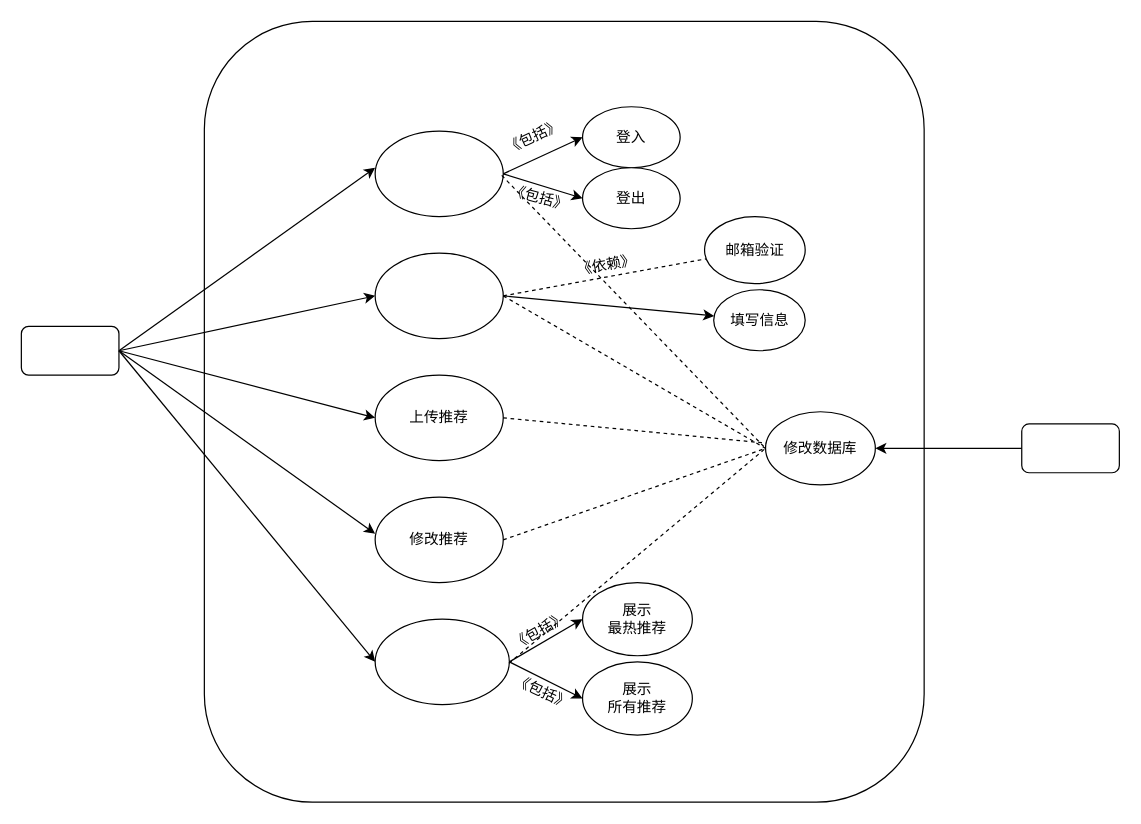
Some shapes in this 1141 by 824 pixel diagram are drawn without their labels. The box of each missing label's shape, as (x1, y1, x2, y2) in pixels:
注册: (374, 252, 503, 339)
浏览推荐: (374, 618, 509, 705)
用户: (20, 325, 119, 375)
登录: (374, 130, 503, 217)
管理员: (1021, 423, 1119, 473)
